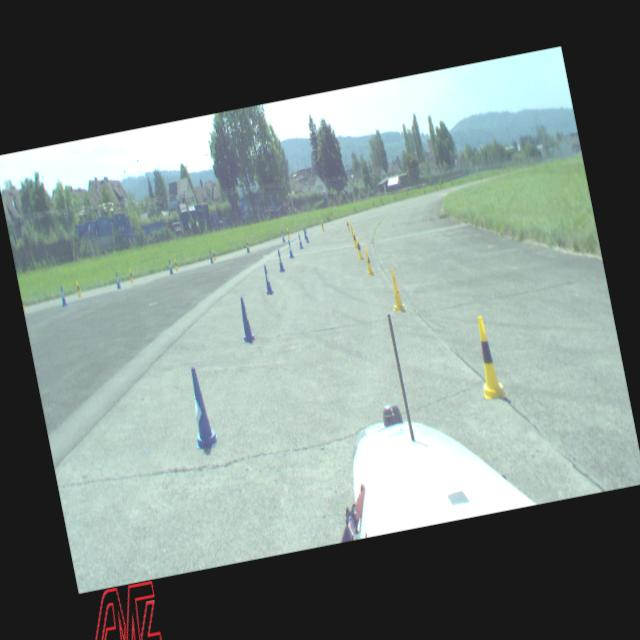blue_cone: (182, 366, 220, 450), (236, 296, 256, 344), (262, 264, 274, 296), (276, 249, 286, 273), (59, 286, 67, 306), (286, 240, 294, 258), (114, 272, 121, 288), (298, 233, 304, 249), (168, 260, 174, 274), (208, 250, 214, 263), (304, 230, 309, 242), (302, 227, 306, 240), (281, 230, 285, 242), (246, 240, 250, 252)
yellow_cone: (470, 313, 506, 399), (386, 270, 407, 312), (362, 247, 374, 276), (354, 236, 364, 260), (352, 230, 358, 248), (76, 281, 82, 296), (129, 269, 134, 282), (320, 220, 324, 232), (174, 258, 178, 270), (346, 219, 350, 230), (286, 228, 290, 239), (212, 250, 216, 260), (247, 238, 250, 250)
